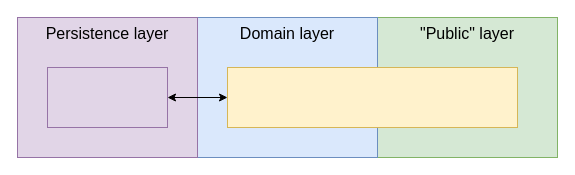
Image size: 575x175. Some labels were removed from this diagram. Here are the shapes that lost their labels. From the top down, the centre of each, then its label:
At point 107,97: "Persistence model".
At point 372,97: "Domain & public model".
